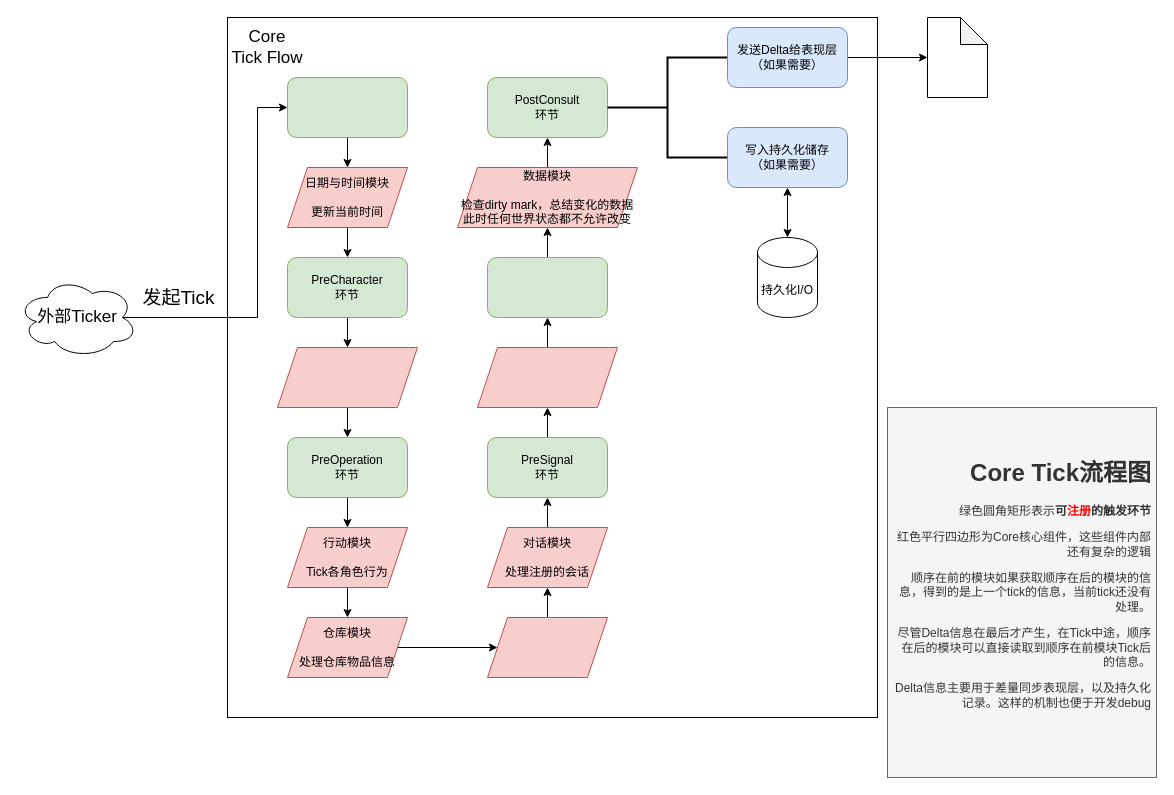
The diagram is 1174 pixels wide and 795 high, and some of its shapes have lost their labels. The box of each missing label's shape, as (x1, y1, x2, y2) in pixels:
Delta消息: (606, 56, 728, 158)
PreConsult 环节: (486, 256, 608, 318)
PreDateTime 环节: (286, 76, 408, 138)
任务模块 处理任务树: (486, 616, 608, 678)
信号模块 处理队列中的信号 信号即玩家的操作: (476, 346, 618, 408)
表现层: (926, 16, 988, 98)
角色模块 更新角色逻辑: (276, 346, 418, 408)
